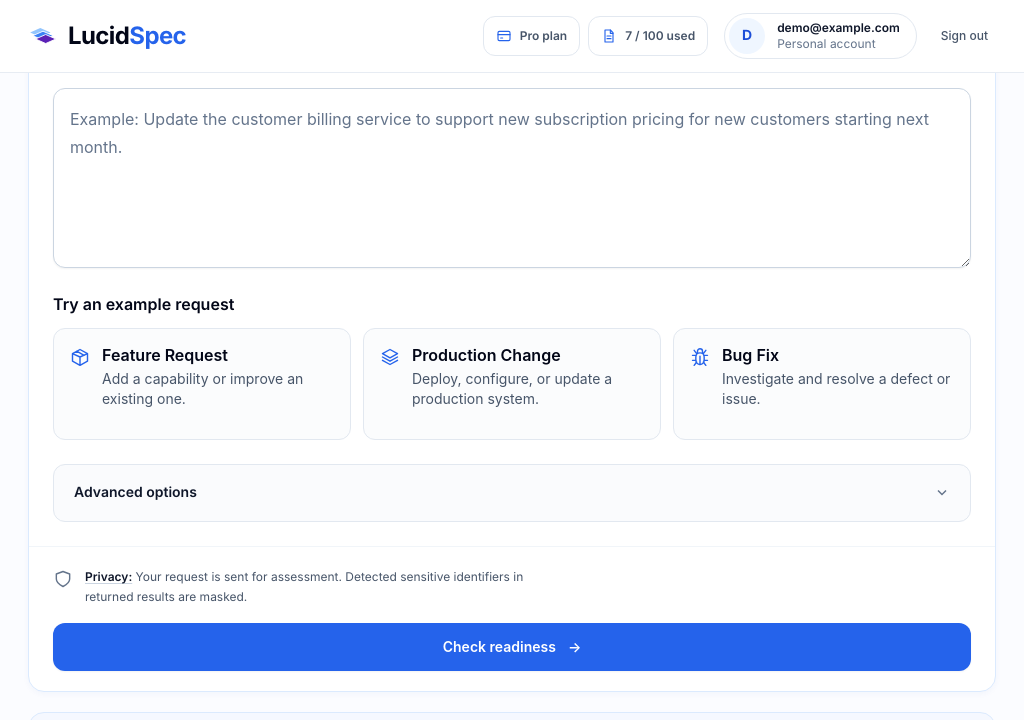
Test: generator intake › sends the existing placeholder flag and only offers generation after a ready API response
The width and height of the screenshot is (1024, 720).
(page scrolled)
Check: the text "7 / 100 used" is shown, box left=588, top=16, right=708, bottom=56
Step 1. Click the button "Feature Request Add a capability or improve an existing one." → coordinates (202, 384), box left=53, top=328, right=351, bottom=440
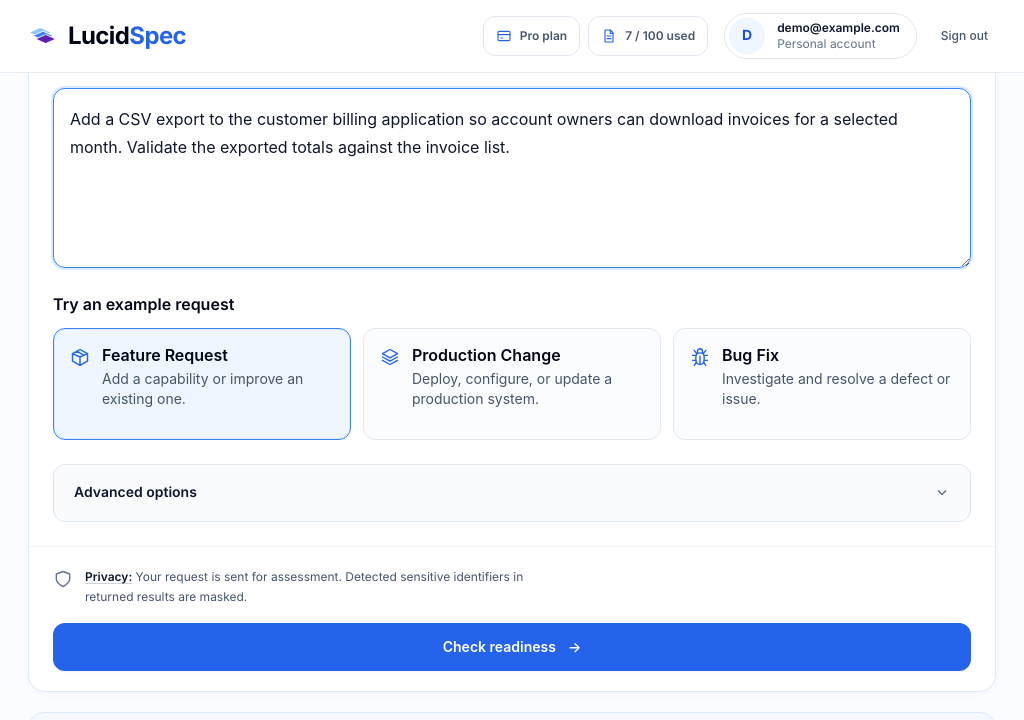
Step 2. Click the heading "Advanced options" → coordinates (135, 492), box left=74, top=484, right=950, bottom=501
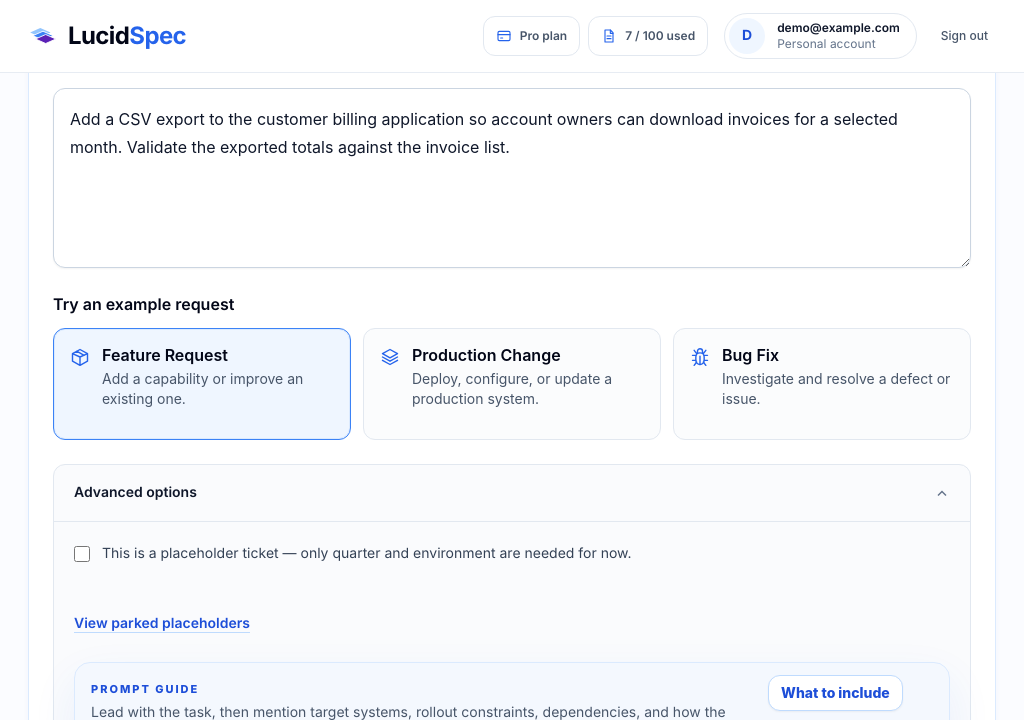
Step 3. Click the checkbox → coordinates (82, 554), box left=74, top=546, right=90, bottom=562
(page scrolled)
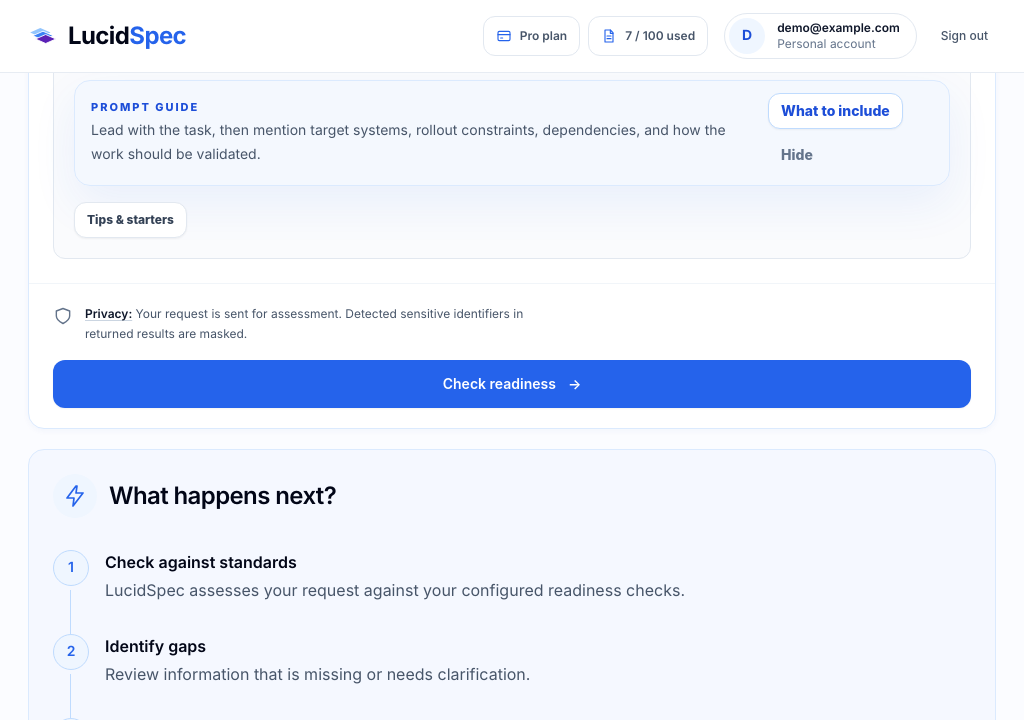
Step 4. Click the button "Check readiness →" → coordinates (512, 384), box left=53, top=360, right=971, bottom=408
(page scrolled)
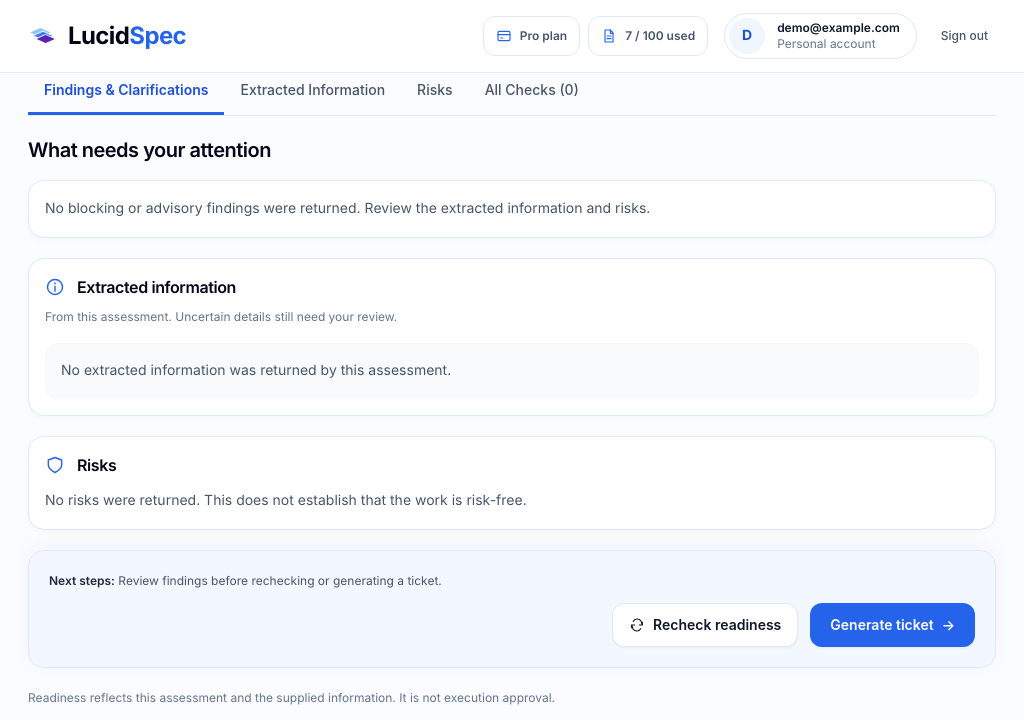
Check: the button "Generate ticket →" is shown, box left=810, top=603, right=975, bottom=647
